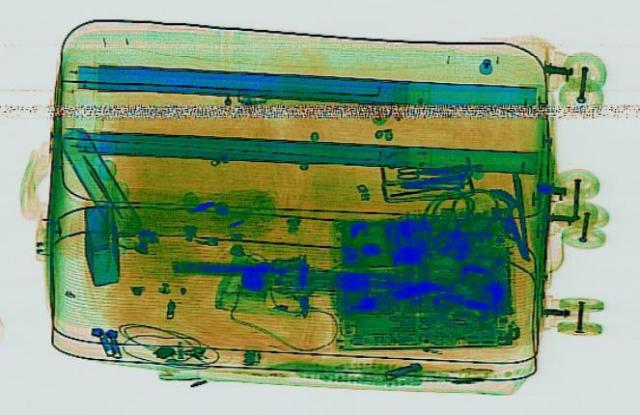Scissors: (394, 163, 450, 179)
